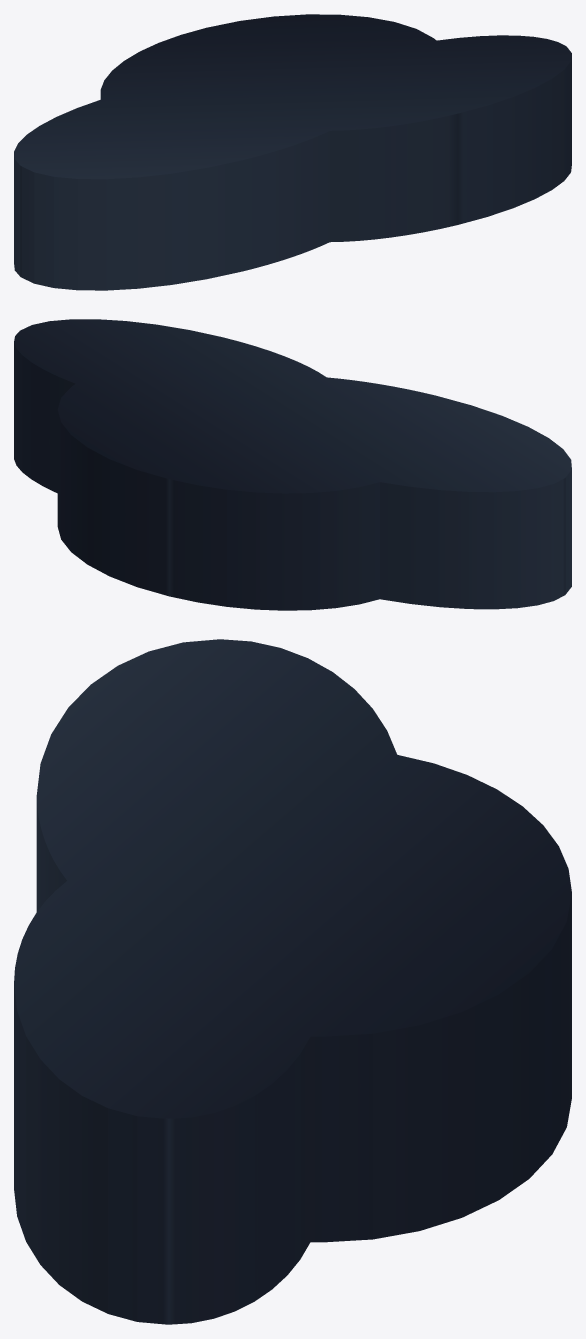
Rendered from shapes.glb.
The picture shows the model from 3 angles, top to bottom: view 1: azimuth 30°, elevation 25°; view 2: azimuth 150°, elevation 25°; view 3: azimuth 270°, elevation 25°; orthographic projection. The views are drawn at different scales.
Visible parts, largest first — view 1: cloud; view 2: cloud; view 3: cloud.
Boxes of the visible parts, x1,y1,x2,y2 form: cloud: [14, 14, 571, 290]; cloud: [14, 319, 571, 610]; cloud: [14, 639, 571, 1324].
Size of the model in its own units: 1 by 0.2 by 0.4915.
1 material, 1 textured.
